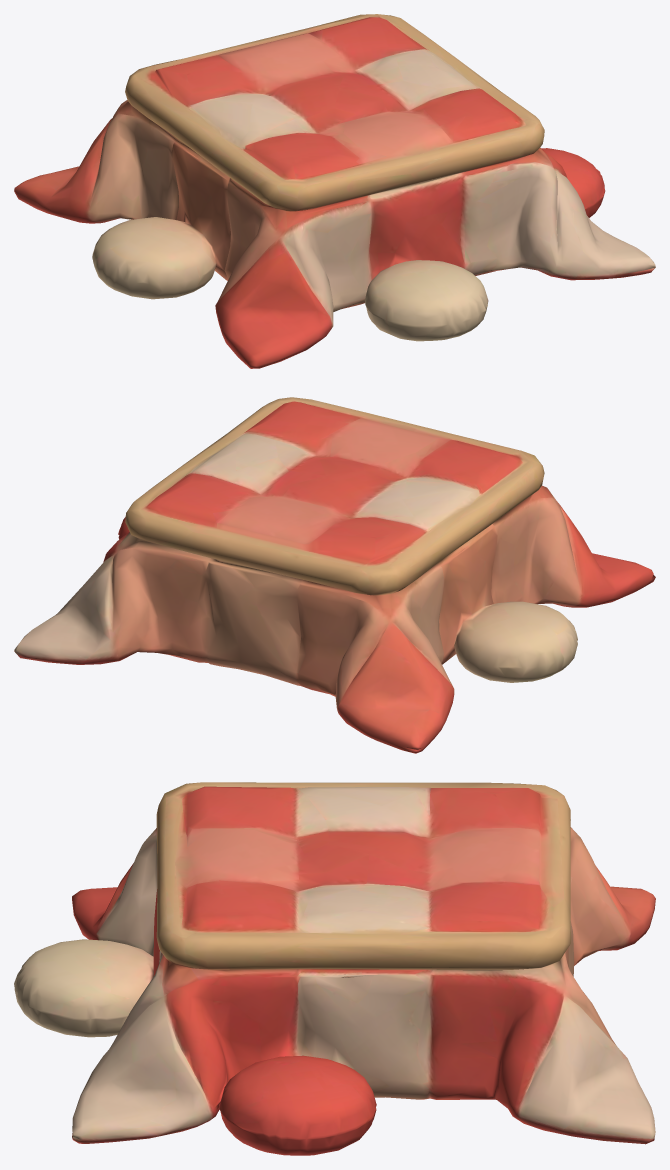
File: living_korsi.glb
3 renders of one model, top to bottom at view 1: azimuth 30°, elevation 25°; view 2: azimuth 150°, elevation 25°; view 3: azimuth 270°, elevation 25°, orthographic. The views are drawn at different scales.
Visible parts, largest first — view 1: tripo_node_68987563-1768-40b0-b716-e9a782857287; view 2: tripo_node_68987563-1768-40b0-b716-e9a782857287; view 3: tripo_node_68987563-1768-40b0-b716-e9a782857287.
Part boxes in pixels (bbox=[...]): tripo_node_68987563-1768-40b0-b716-e9a782857287: bbox=[14, 14, 655, 368]; tripo_node_68987563-1768-40b0-b716-e9a782857287: bbox=[14, 397, 655, 753]; tripo_node_68987563-1768-40b0-b716-e9a782857287: bbox=[14, 782, 655, 1155].
Bounding box in the file's own units: 1.4 × 0.4128 × 1.36.
1 material, 1 textured.
